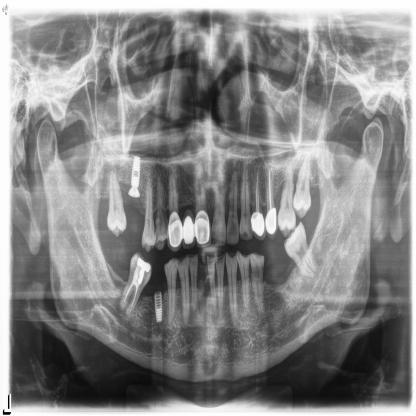Bicon: (125, 147, 143, 196), (151, 286, 164, 334)
